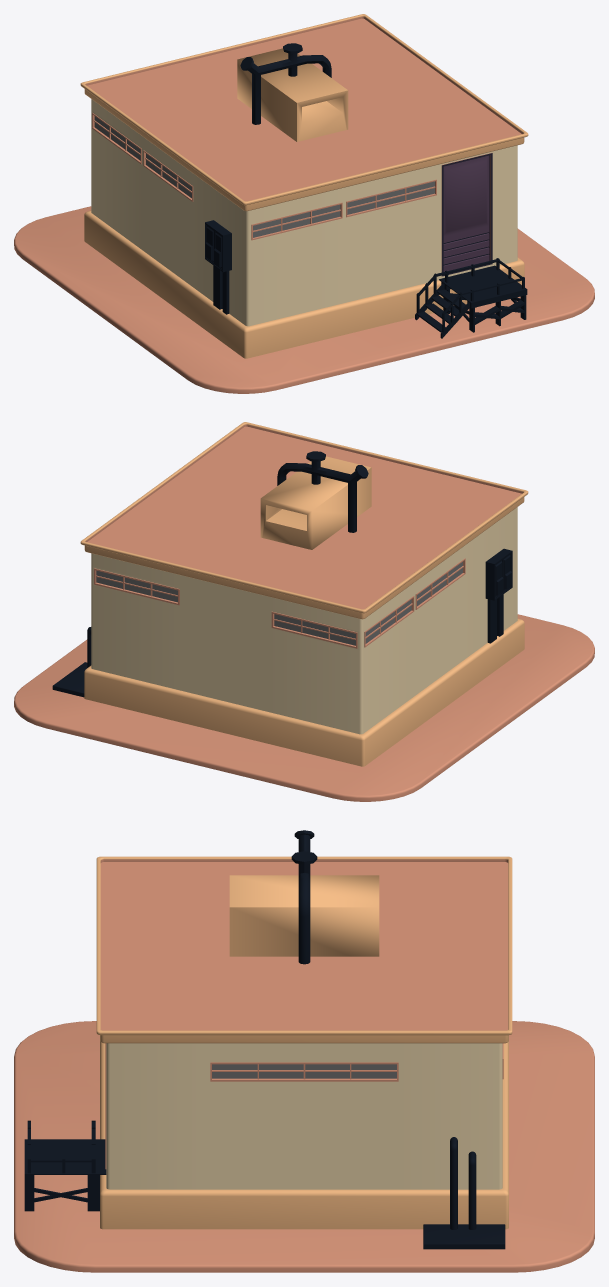
File: industrial-buildings-building-C.fbx
3 renders of one model, top to bottom at view 1: azimuth 30°, elevation 25°; view 2: azimuth 150°, elevation 25°; view 3: azimuth 270°, elevation 25°, orthographic. The views are drawn at different scales.
Parts seen in each view (by area): view 1: industrial-buildings-building-C; view 2: industrial-buildings-building-C; view 3: industrial-buildings-building-C.
Boxes of the visible parts, <box> form: industrial-buildings-building-C: <box>14,14,594,393</box>; industrial-buildings-building-C: <box>14,422,594,801</box>; industrial-buildings-building-C: <box>14,830,594,1272</box>.
Size of the model in its own units: 24.6 by 13.4 by 24.6.
